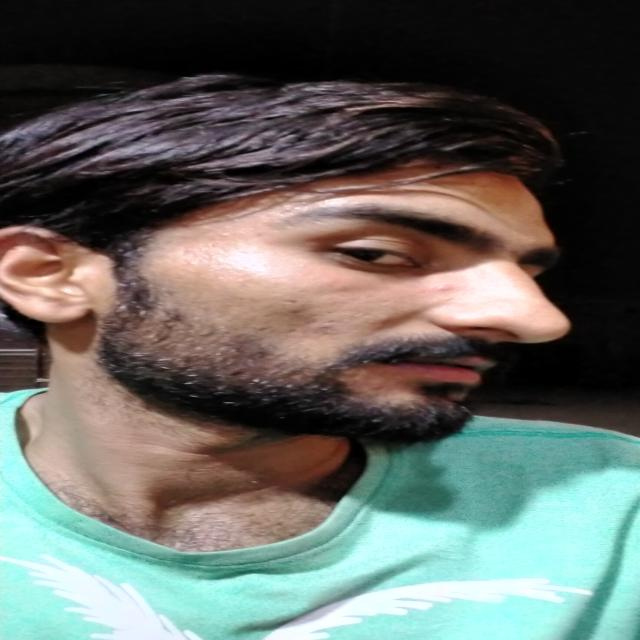Acne: (426, 282, 457, 291), (365, 383, 390, 393), (218, 230, 232, 238)
Englarged-Pores: (254, 297, 353, 337)
